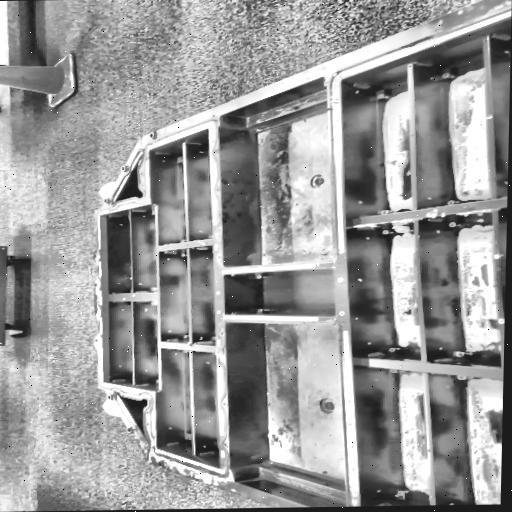b_casing: (93, 0, 512, 508)
